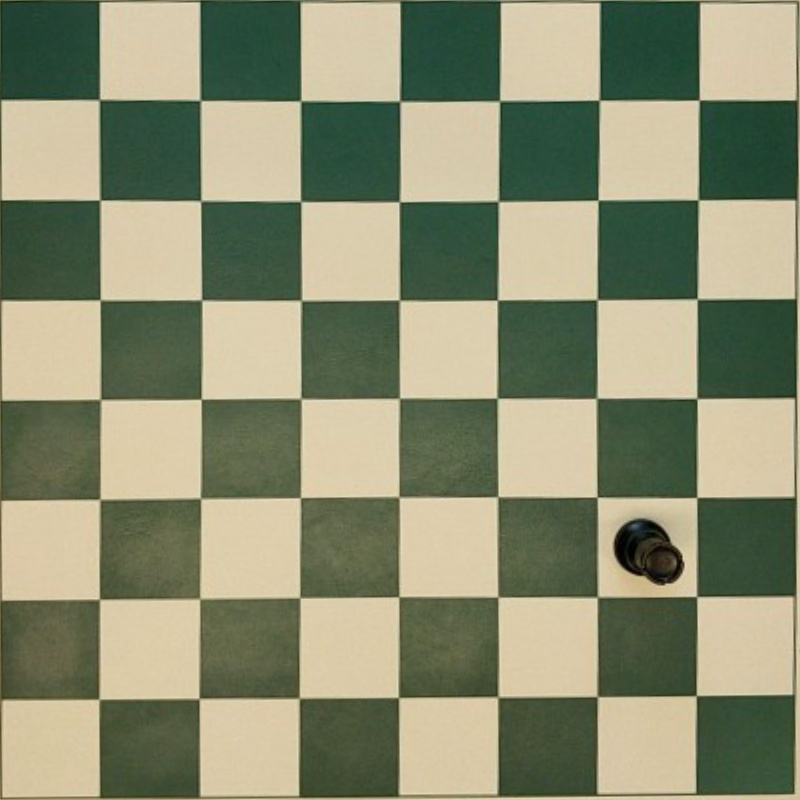black-rook: (614, 518, 684, 585)
